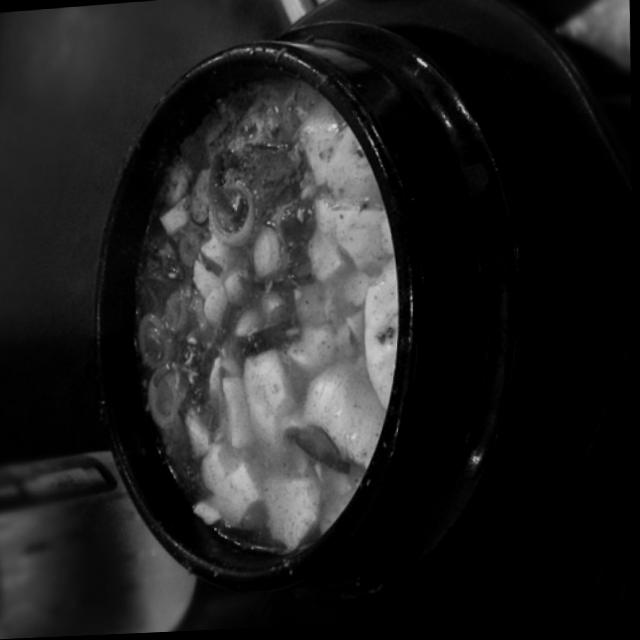汤锅炖物: (65, 0, 638, 630)
